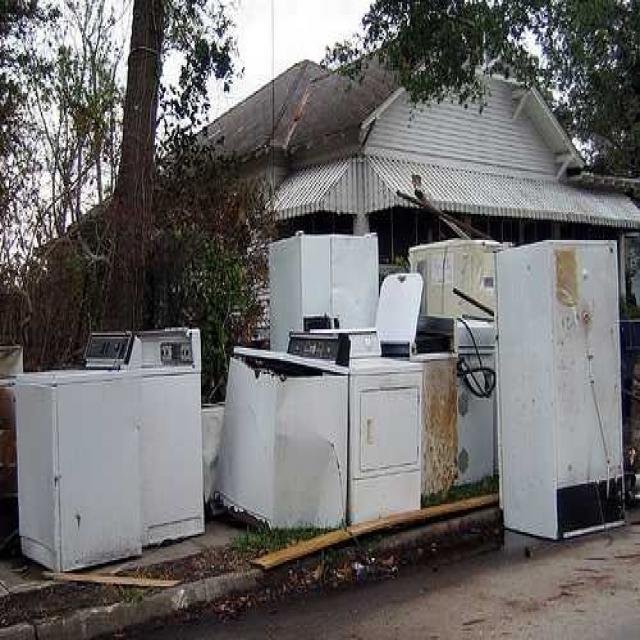refrigerator: (490, 244, 637, 547), (10, 363, 203, 573), (266, 234, 379, 358), (376, 274, 425, 356)
